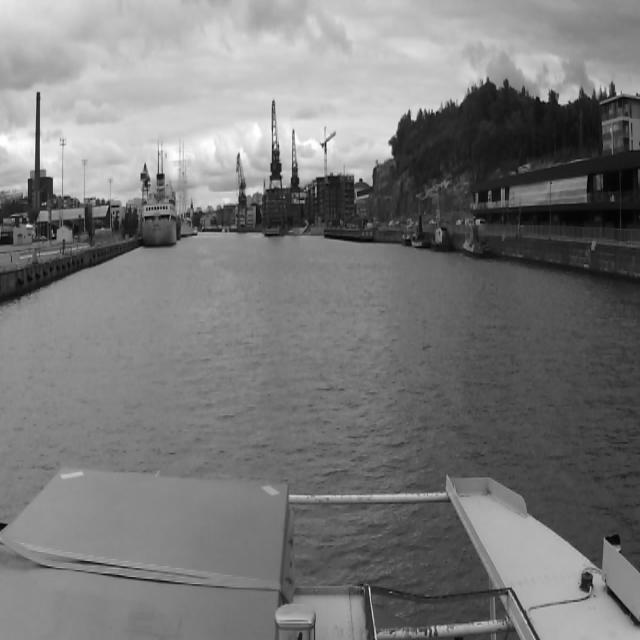ship: (142, 172, 176, 246), (179, 137, 197, 237), (463, 222, 485, 257), (433, 223, 453, 252), (412, 219, 430, 247), (404, 226, 410, 244)
